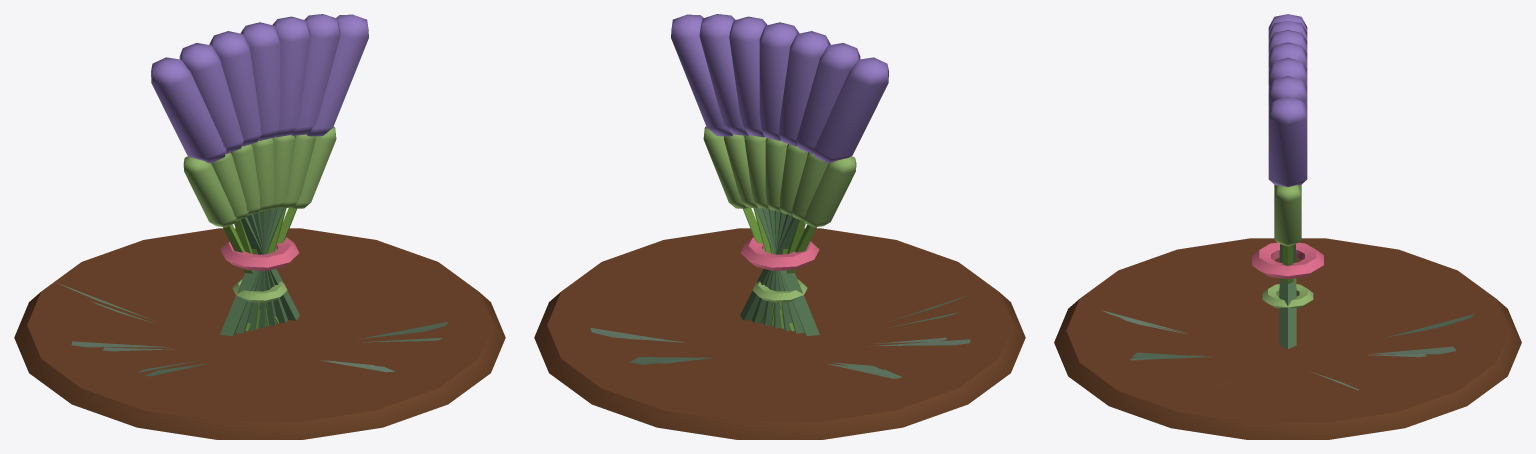
File: lavender.glb
3 renders of one model, left to right at view 1: azimuth 30°, elevation 25°; view 2: azimuth 150°, elevation 25°; view 3: azimuth 270°, elevation 25°, orthographic. The views are drawn at different scales.
Parts seen in each view (by area): view 1: crop-lavender-giant, crop-lavender-giant-2; view 2: crop-lavender-giant, crop-lavender-giant-2; view 3: crop-lavender-giant, crop-lavender-giant-2.
Part boxes in pixels (x1,y1,x2,y2): crop-lavender-giant: (14,14,505,439); crop-lavender-giant-2: (91,126,448,372); crop-lavender-giant: (534,14,1025,439); crop-lavender-giant-2: (619,126,959,369); crop-lavender-giant: (1054,14,1521,439); crop-lavender-giant-2: (1120,185,1443,386).
Bounding box in the file's own units: 5.61 × 4.15 × 5.7.
